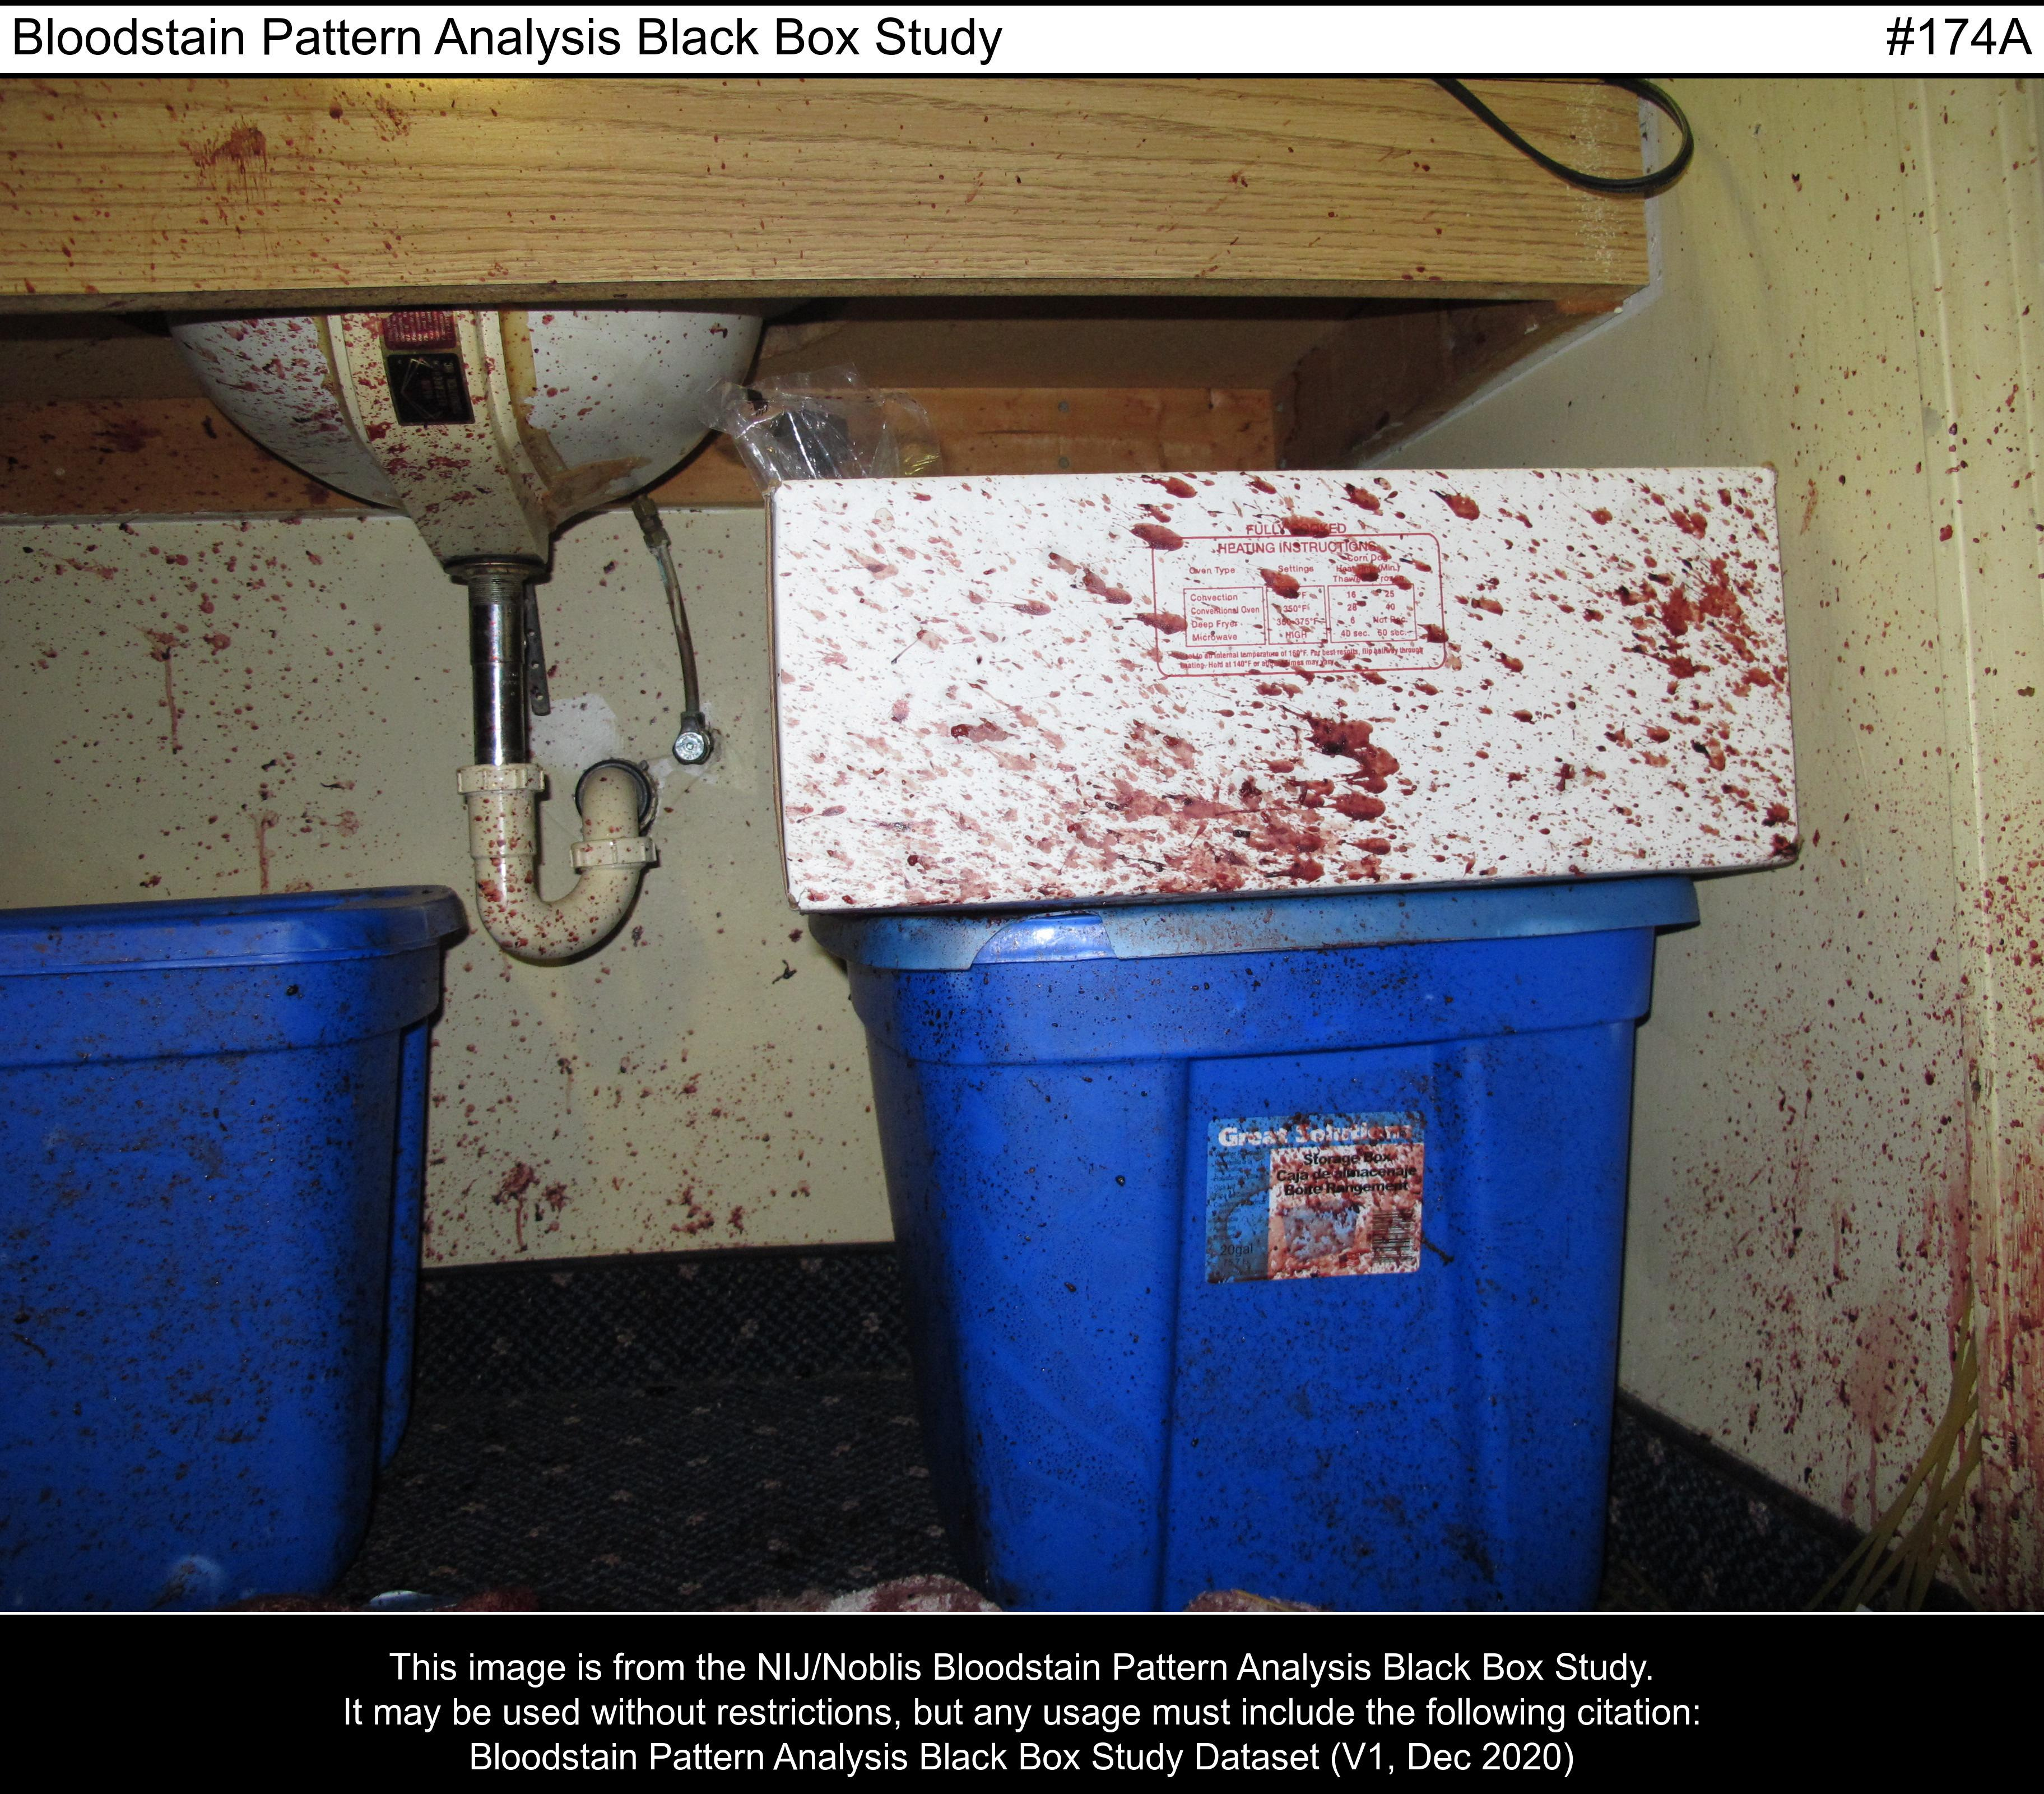Impact: (763, 450, 2034, 1552)
